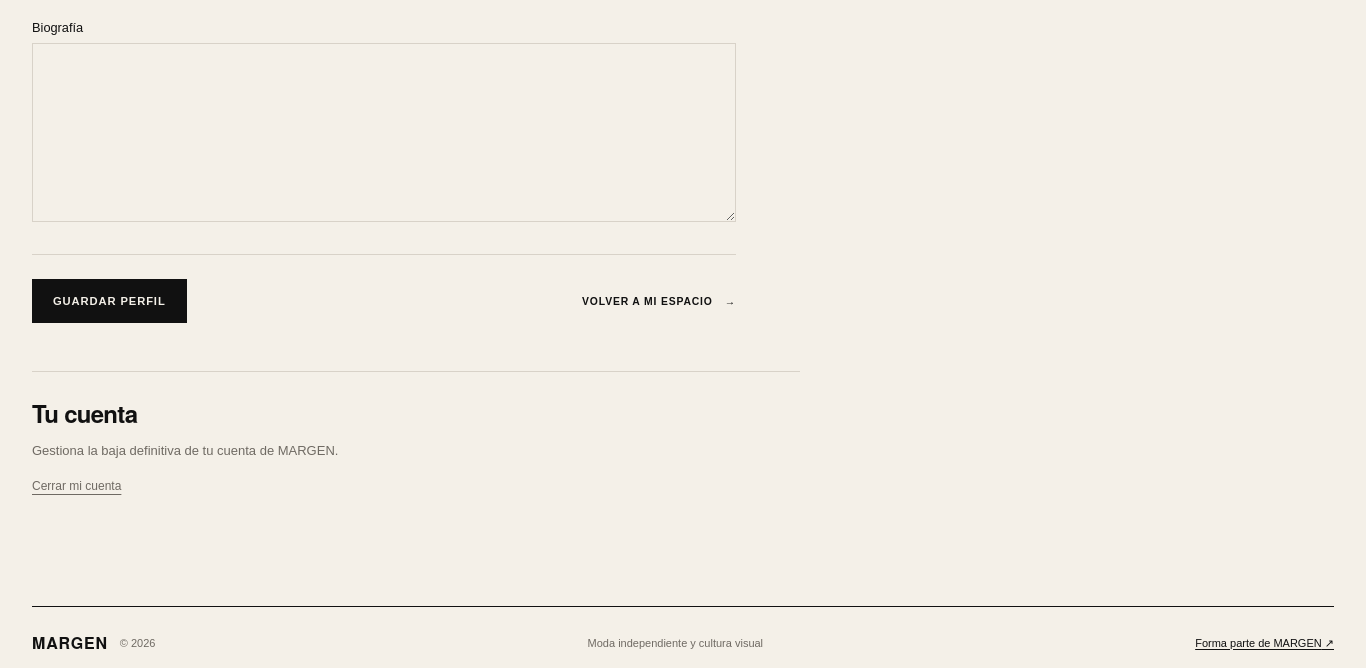
Explicit account closure › shows a password error without falsely closing the account
(page scrolled)
Click the button "Cerrar mi cuenta".
click(77, 486)  # box [32,480,121,494]
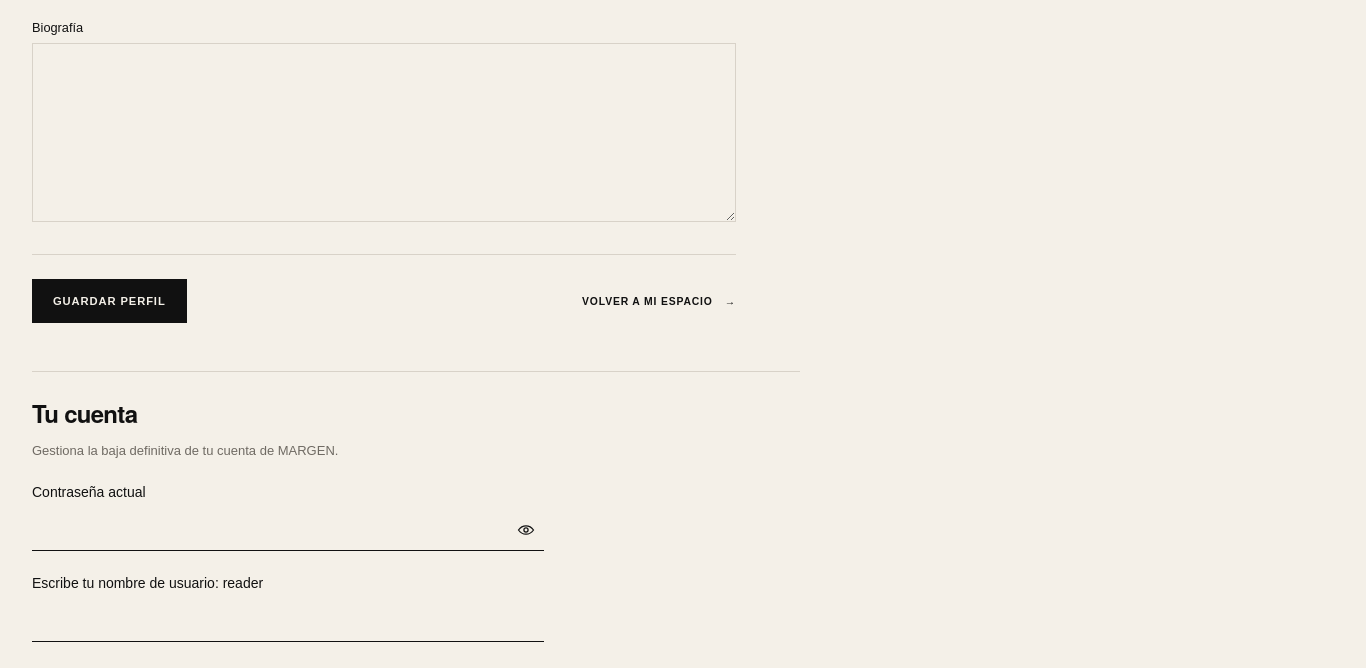
Type "CorrectPassword123!" into the password field labelled "Contraseña actual".
click(288, 530); type("CorrectPassword123!")  # box [32,508,544,552]
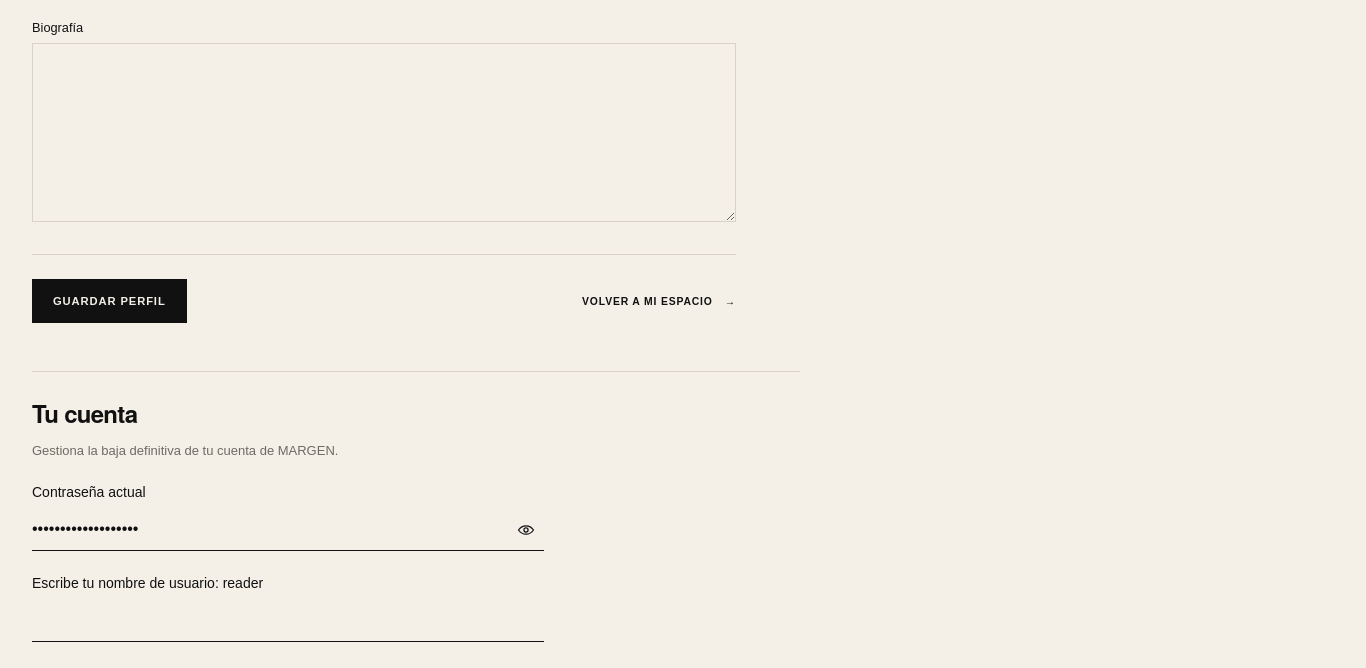
Type "reader" into the field labelled "Escribe tu nombre de usuario: reader".
click(288, 621); type("reader")  # box [32,600,544,642]
(page scrolled)
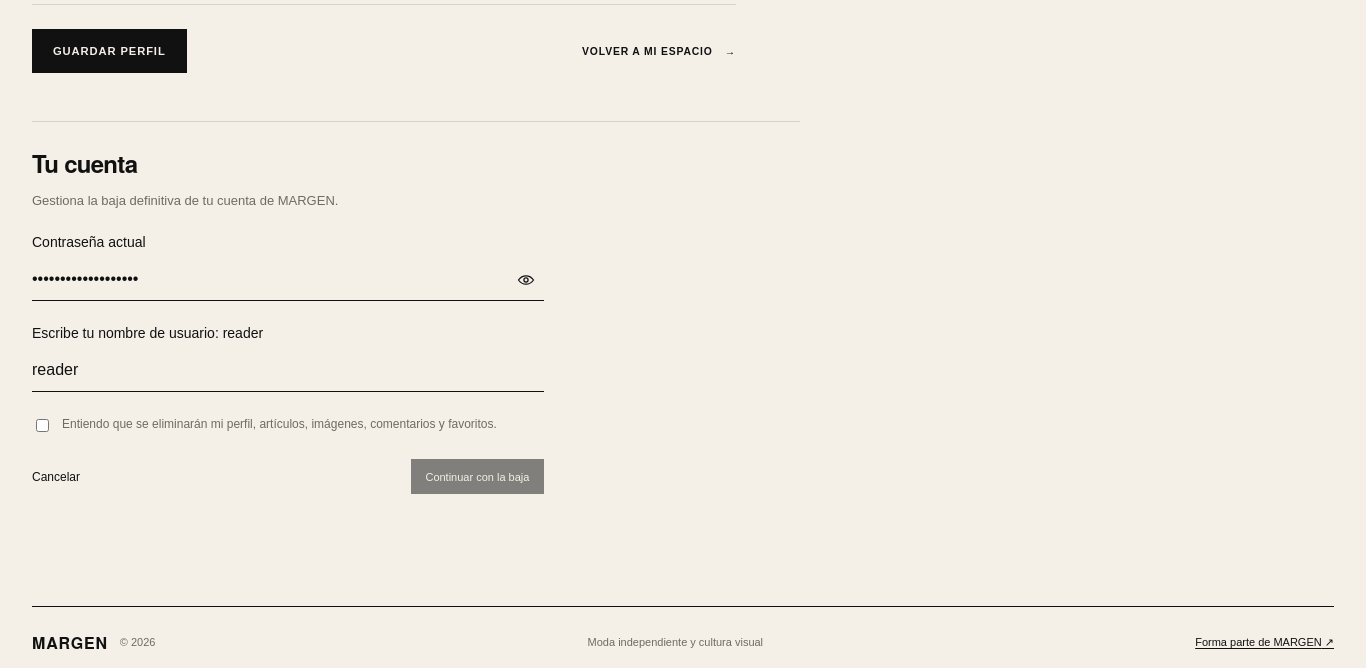
Click the checkbox labelled "Entiendo que se eliminarán".
click(42, 426)  # box [36,420,49,432]
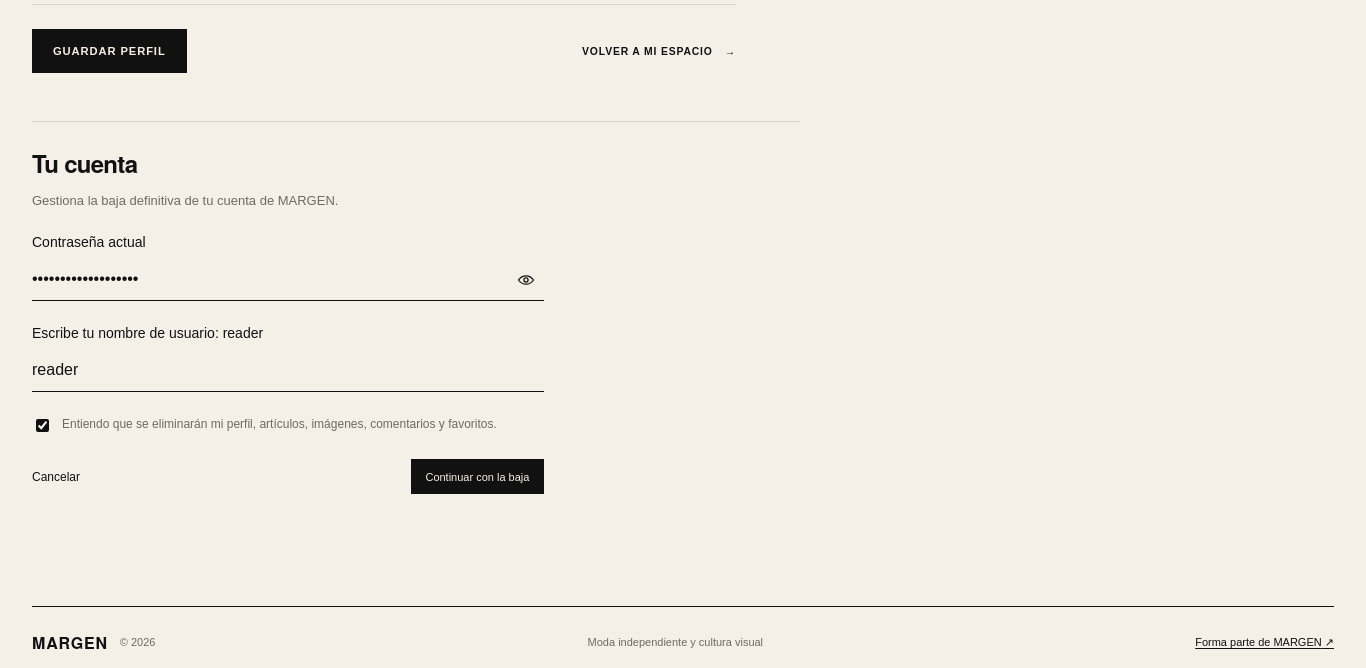
Click the button "Continuar con la baja".
click(477, 477)  # box [411,460,544,494]
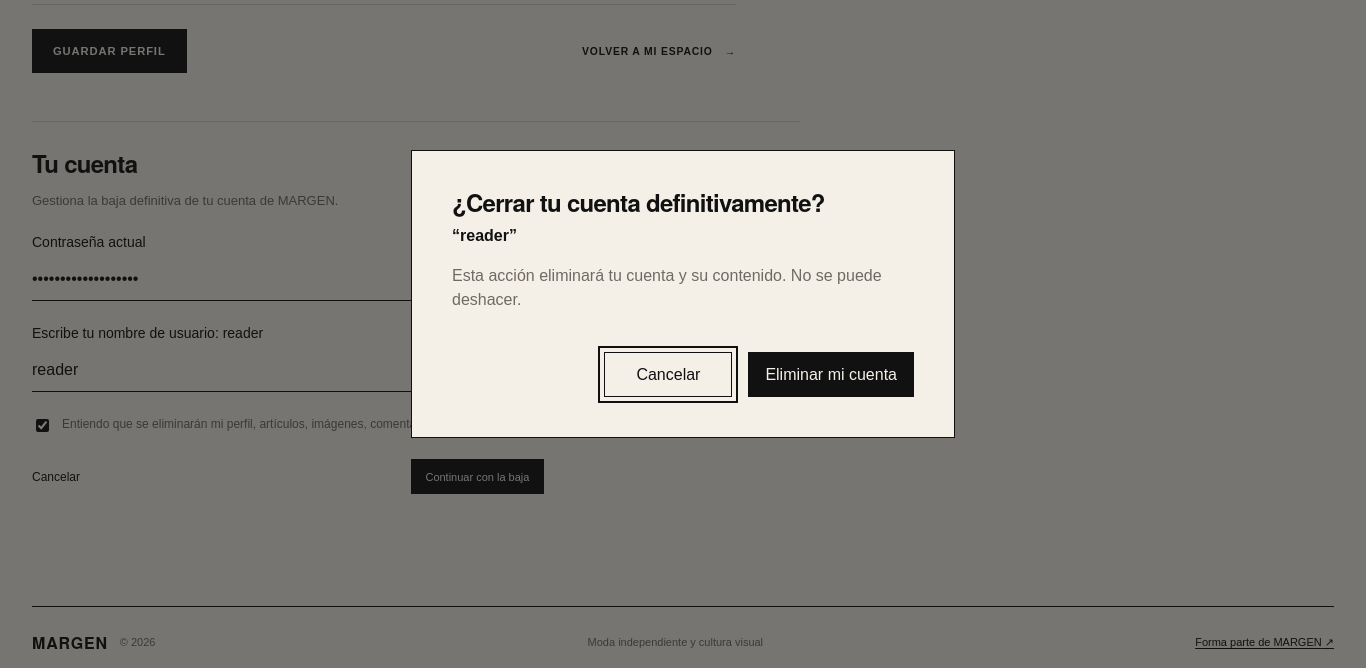
Click the button "Eliminar mi cuenta".
click(831, 375)  # box [748,352,914,397]
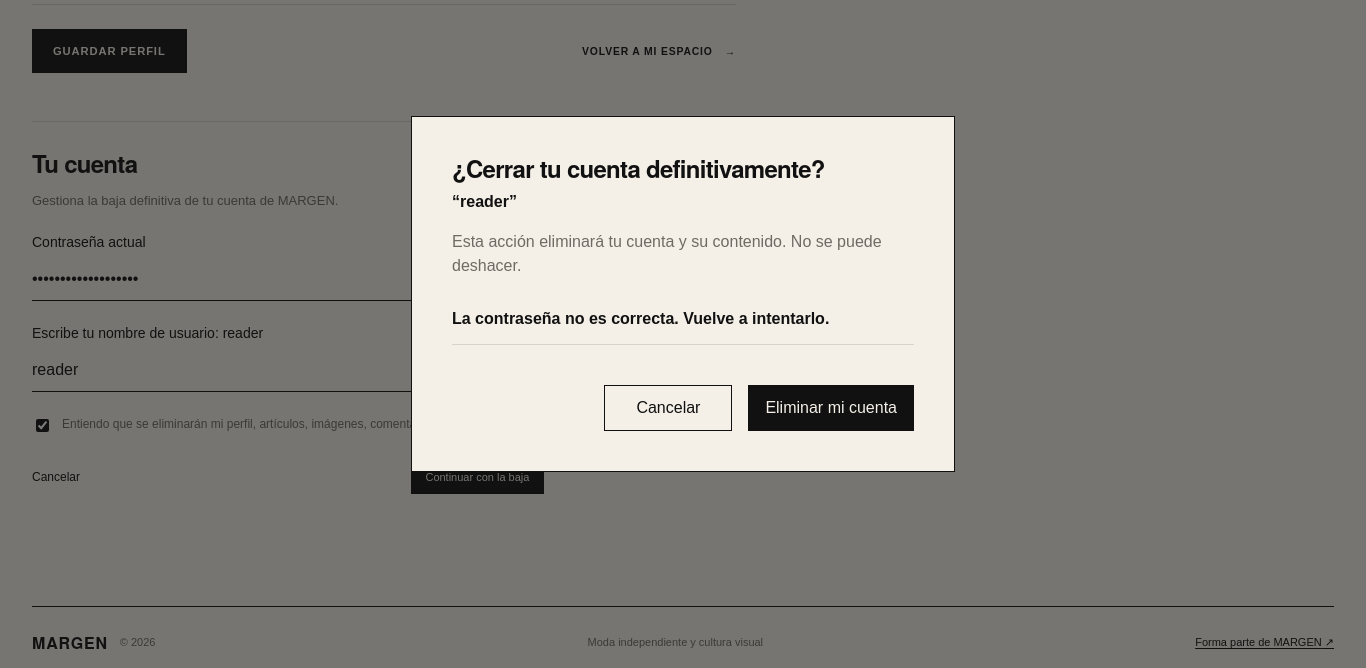
Expected: the message shows "La contraseña no es correcta", [452,310,829,327]
